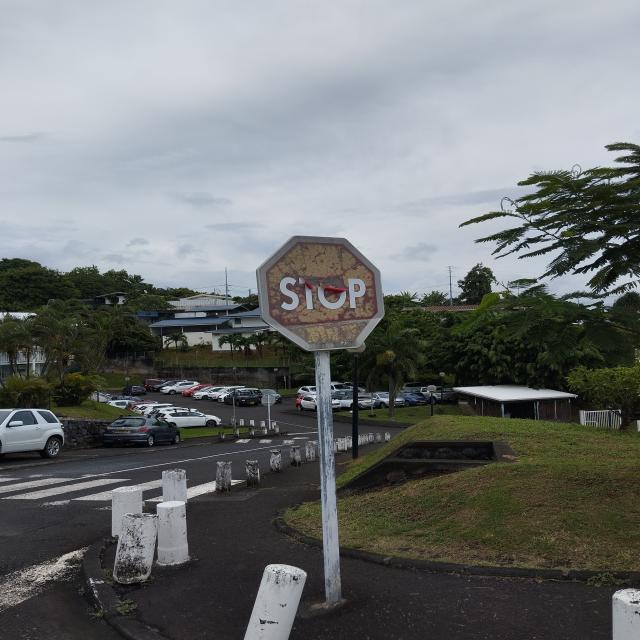Panneau-Stop: (262, 240, 388, 352)
